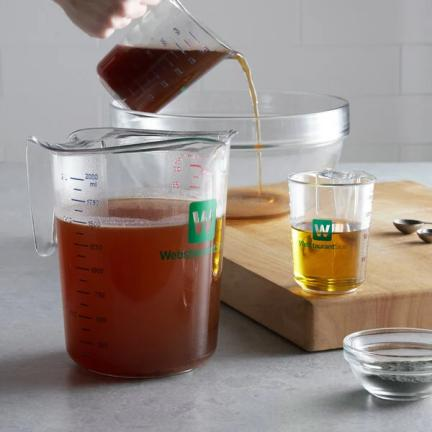container: (51, 129, 234, 377), (97, 0, 233, 113), (289, 169, 374, 294)
fluid: (55, 213, 226, 372), (97, 44, 229, 118), (291, 229, 371, 290)
fluid-surface: (56, 199, 224, 225), (295, 218, 370, 233), (117, 42, 228, 52)
